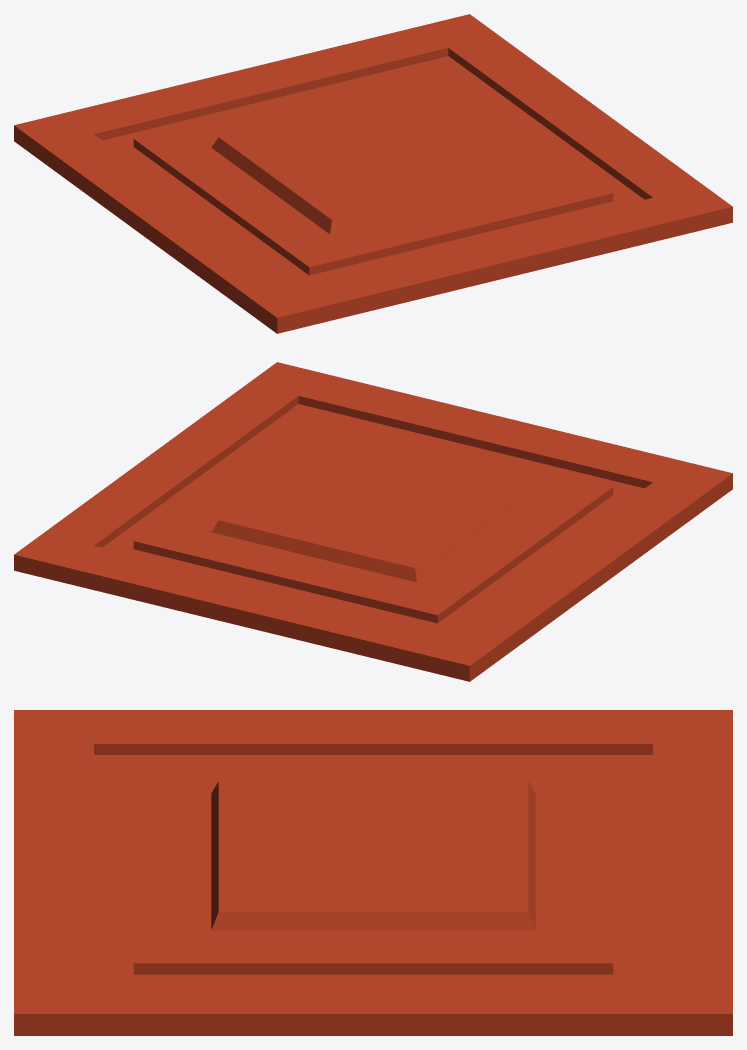
The model's file is Ceiling-2.FBX.
The picture shows the model from 3 angles, top to bottom: view 1: azimuth 30°, elevation 25°; view 2: azimuth 150°, elevation 25°; view 3: azimuth 270°, elevation 25°; orthographic projection. The views are drawn at different scales.
Visible parts, largest first — view 1: Ceiling; view 2: Ceiling; view 3: Ceiling.
Boxes of the visible parts, bbox=[...] form: Ceiling: bbox=[14, 14, 732, 333]; Ceiling: bbox=[14, 362, 732, 681]; Ceiling: bbox=[14, 710, 732, 1035].
Size of the model in its own units: 118 by 6.73 by 118.
